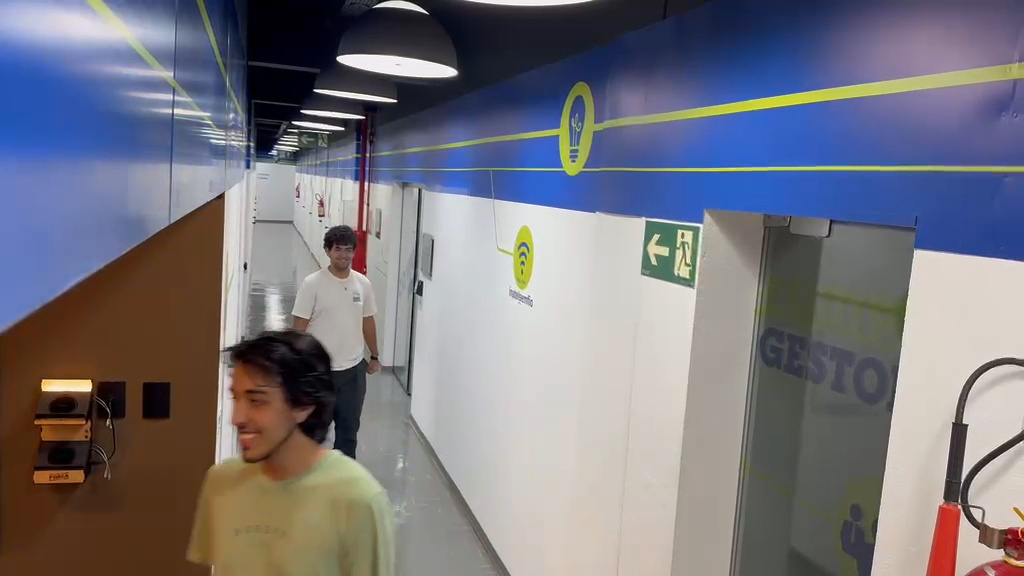person: (184, 331, 398, 571), (288, 224, 381, 457)
